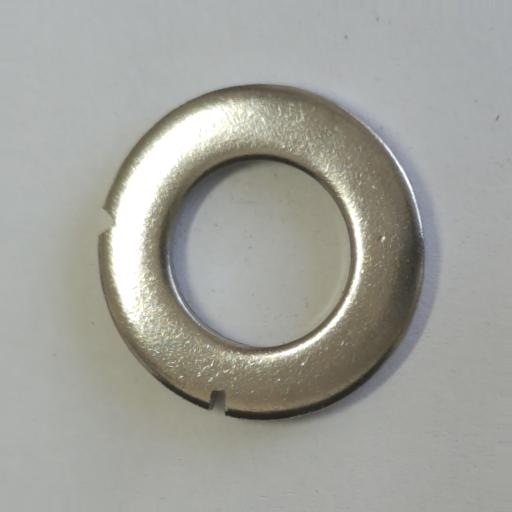burr: (97, 206, 117, 237), (207, 390, 226, 414)
